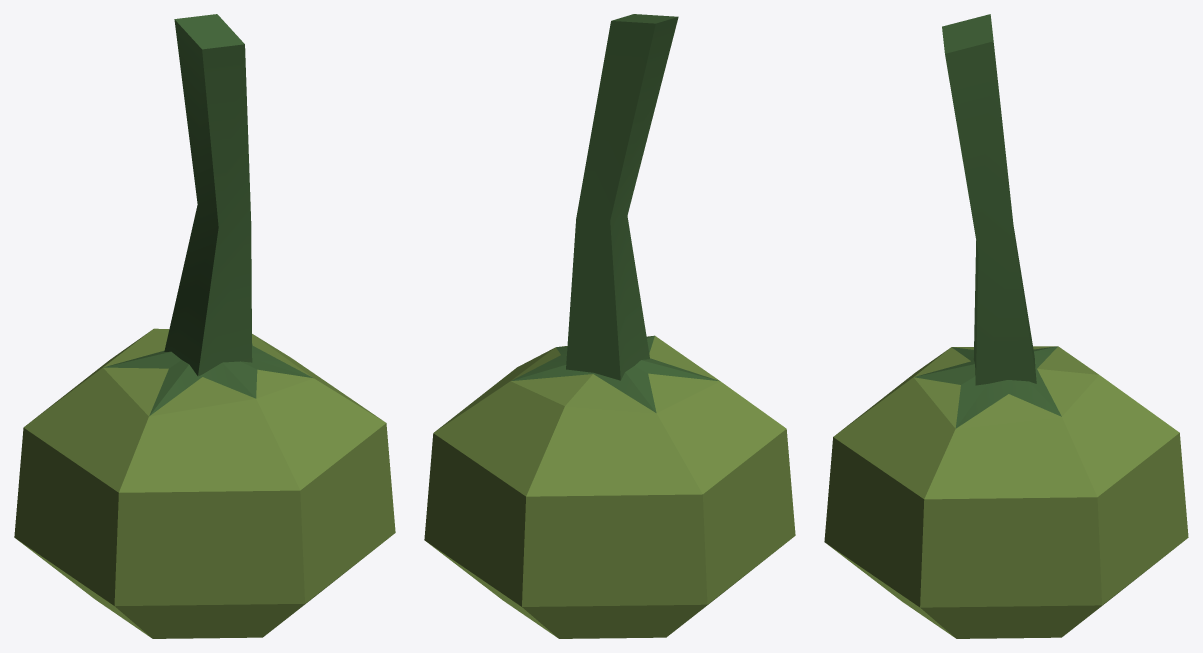
File: SM_Prop_Tomato_01_M.glb
3 renders of one model, left to right at view 1: azimuth 30°, elevation 25°; view 2: azimuth 150°, elevation 25°; view 3: azimuth 270°, elevation 25°, orthographic. The views are drawn at different scales.
Parts seen in each view (by area): view 1: SM_Prop_Tomato_01_M; view 2: SM_Prop_Tomato_01_M; view 3: SM_Prop_Tomato_01_M.
Part boxes in pixels (x1=…): SM_Prop_Tomato_01_M: x1=14, y1=14, x2=395, y2=638; SM_Prop_Tomato_01_M: x1=424, y1=14, x2=795, y2=638; SM_Prop_Tomato_01_M: x1=824, y1=14, x2=1188, y2=638.
Bounding box in the file's own units: 0.0881 × 0.177 × 0.1.
1 material, 1 textured.
